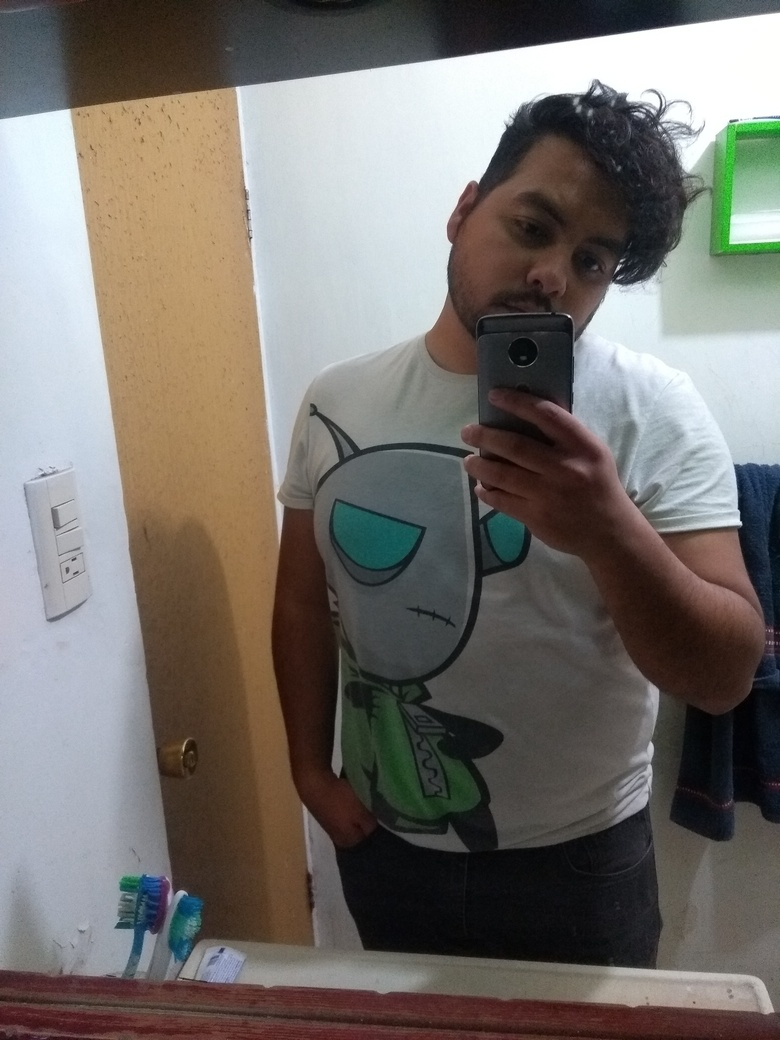Yoshi: (400, 61, 703, 415)
